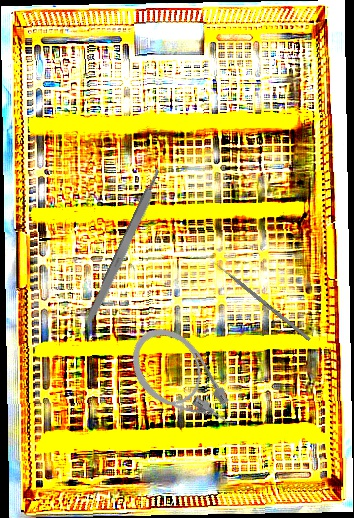Cannula: (116, 314, 248, 453)
Pusher: (208, 256, 311, 342)
Scalpel Handle: (81, 168, 166, 332)
